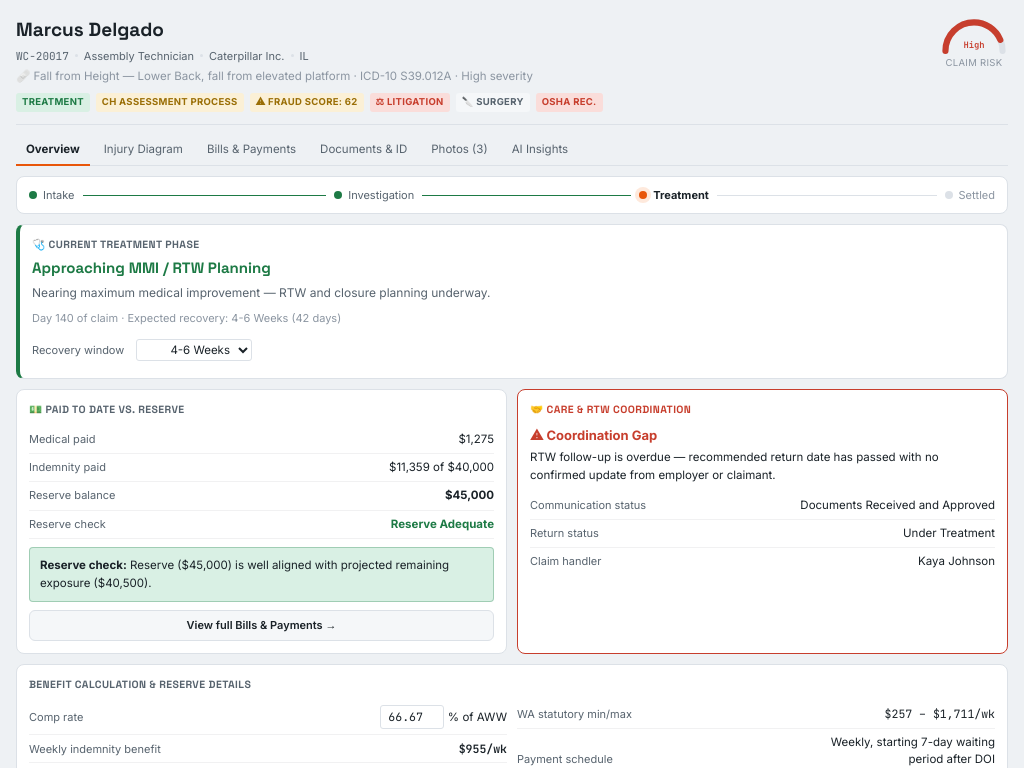
Test: clicking a card opens a viewer showing its caption, source and claim
Step 1. Click the tab with test id "tab-photos" → point(459, 150), box left=421, top=134, right=498, bottom=166
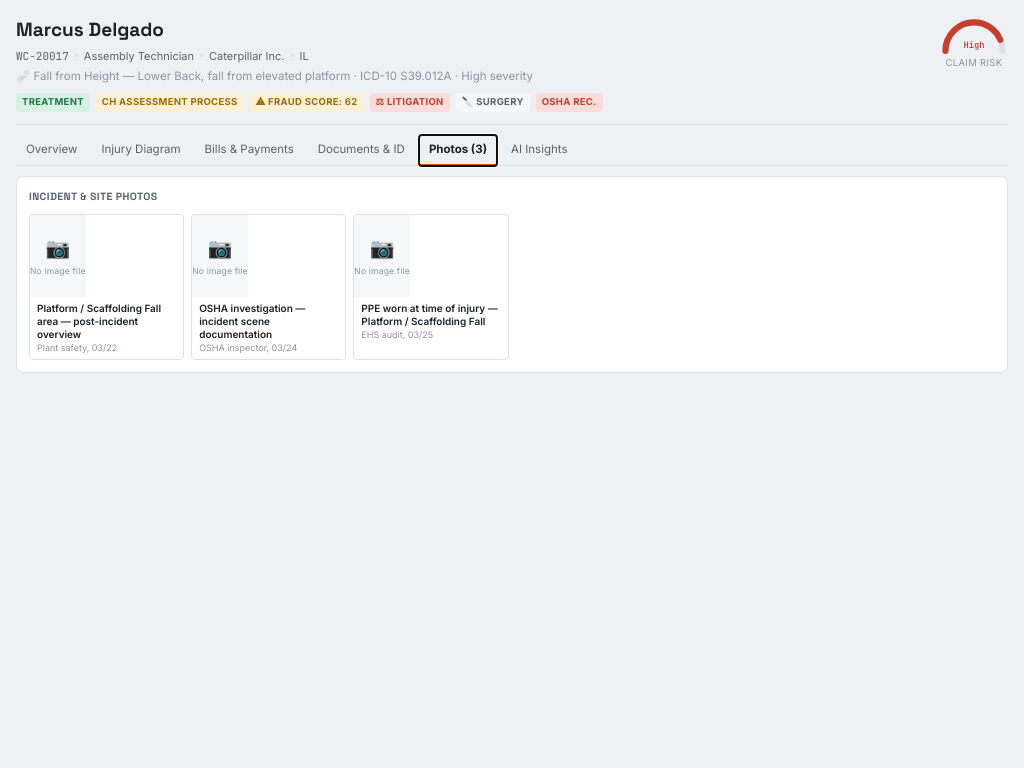
Step 2. Click the button with test id "photo-card" → point(269, 287), box left=191, top=214, right=346, bottom=360
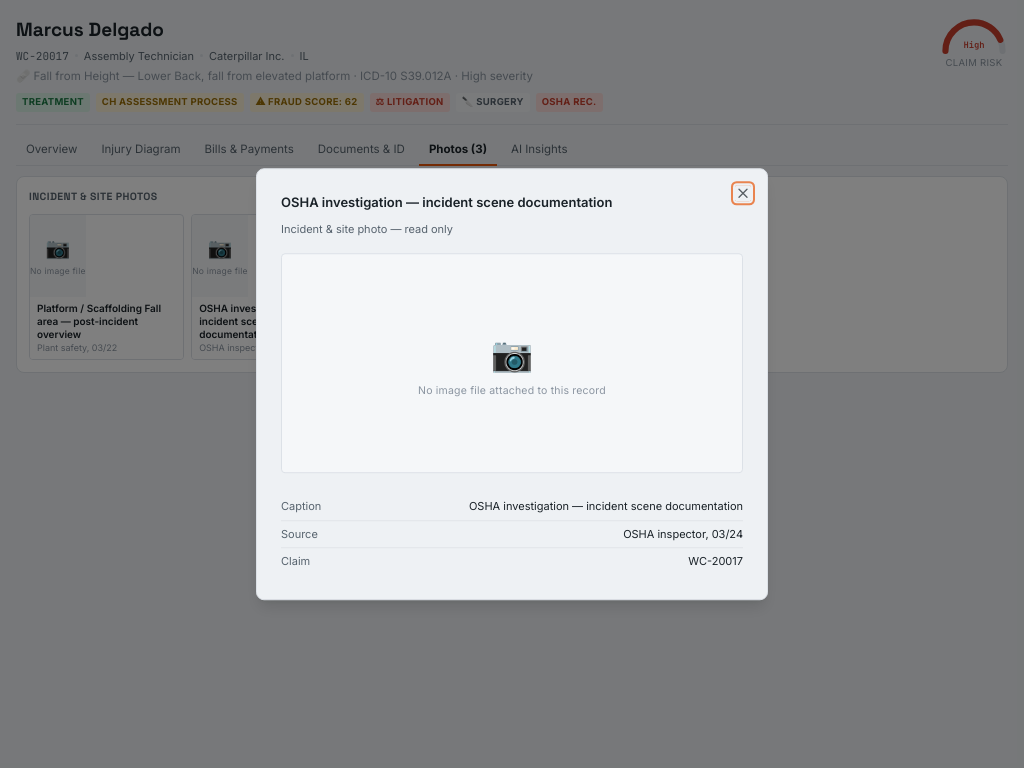
Expected: the dialog with test id "photo-viewer" is shown, left=256, top=168, right=768, bottom=600
Expected: the dialog with test id "photo-viewer" shows "OSHA investigation — incident scene documentation", left=281, top=194, right=612, bottom=210
Expected: the dialog with test id "photo-viewer" shows "OSHA inspector, 03/24", left=623, top=527, right=743, bottom=541
